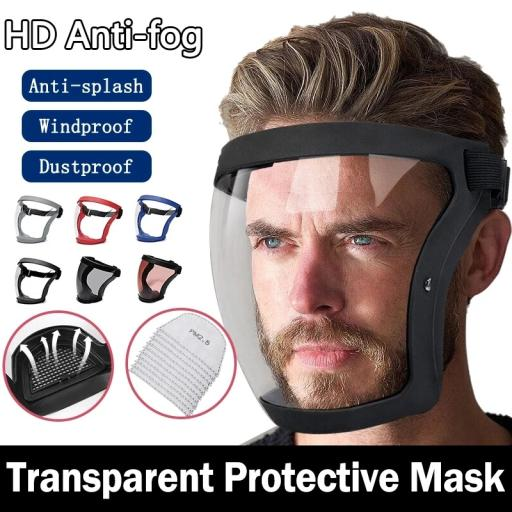mask: (208, 139, 468, 430)
